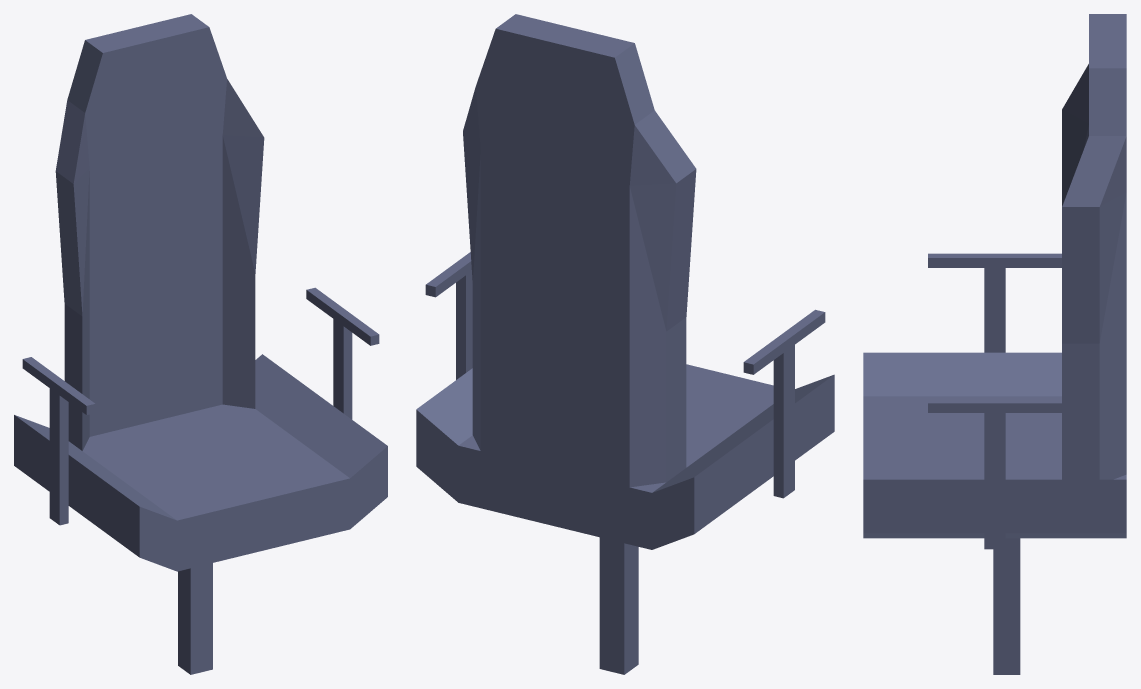
The model's file is 4bIy531O.glb.
3 views of the same model, side by side, from view 1: azimuth 30°, elevation 25°; view 2: azimuth 150°, elevation 25°; view 3: azimuth 270°, elevation 25° (orthographic). The views are drawn at different scales.
Parts seen in each view (by area): view 1: GamerChair; view 2: GamerChair; view 3: GamerChair.
Boxes of the visible parts, x1,y1,x2,y2 form: GamerChair: [14, 14, 387, 674]; GamerChair: [416, 14, 834, 674]; GamerChair: [863, 14, 1126, 674].
Size of the model in its own units: 0.66 by 1.29 by 0.49.
